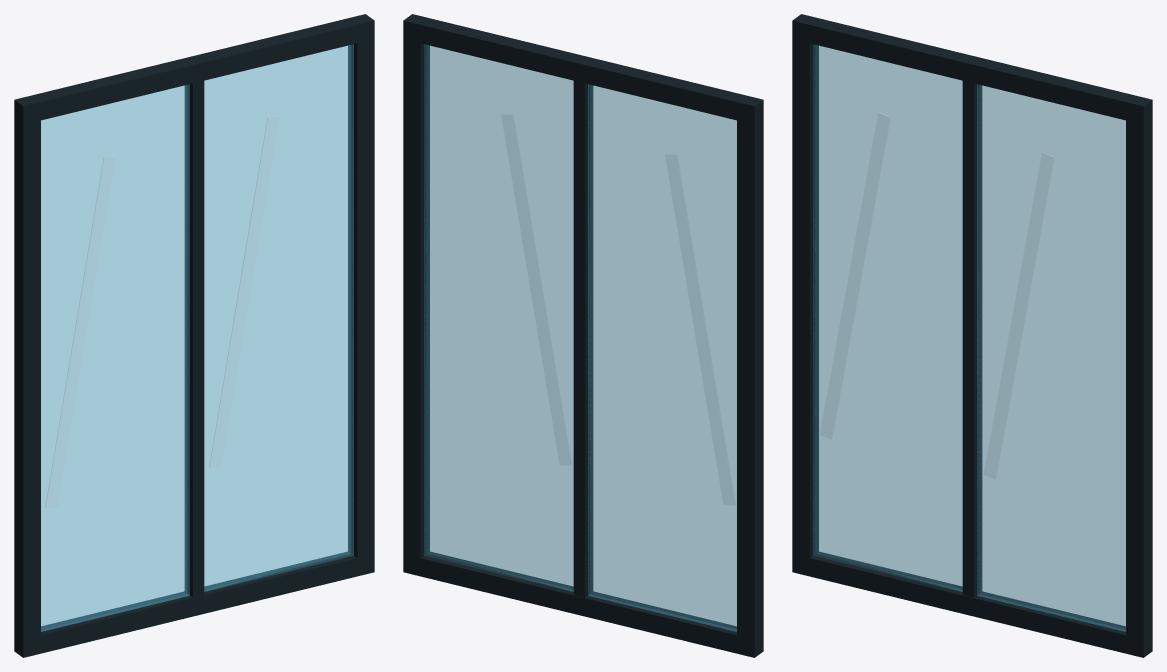
File: window_2pan_2level.glb
The picture shows the model from 3 angles, left to right: view 1: azimuth 30°, elevation 25°; view 2: azimuth 150°, elevation 25°; view 3: azimuth 330°, elevation 25°; orthographic projection.
Parts seen in each view (by area): view 1: Glass_Pane_2, Glass_Pane_1, Frame_Left, Frame_Right, Mullion_1, Frame_Top, Frame_Bottom, Reflection_Stripe_2, Reflection_Stripe_1; view 2: Glass_Pane_2, Glass_Pane_1, Frame_Left, Frame_Right, Mullion_1, Frame_Top, Frame_Bottom, Reflection_Stripe_1, Reflection_Stripe_2; view 3: Glass_Pane_1, Glass_Pane_2, Frame_Right, Frame_Left, Mullion_1, Frame_Top, Frame_Bottom, Reflection_Stripe_1, Reflection_Stripe_2.
Boxes of the visible parts, left/top/right/bottom form: Glass_Pane_2: left=204, top=44, right=353, bottom=591; Glass_Pane_1: left=41, top=84, right=189, bottom=631; Frame_Left: left=14, top=118, right=40, bottom=639; Frame_Right: left=348, top=39, right=374, bottom=557; Mullion_1: left=184, top=81, right=204, bottom=597; Frame_Top: left=14, top=14, right=374, bottom=124; Frame_Bottom: left=14, top=551, right=374, bottom=657; Reflection_Stripe_2: left=209, top=117, right=279, bottom=467; Reflection_Stripe_1: left=45, top=157, right=115, bottom=507; Glass_Pane_2: left=424, top=44, right=573, bottom=591; Glass_Pane_1: left=588, top=84, right=736, bottom=631; Frame_Left: left=737, top=118, right=763, bottom=639; Frame_Right: left=403, top=39, right=429, bottom=557; Mullion_1: left=573, top=81, right=593, bottom=597; Frame_Top: left=403, top=14, right=763, bottom=124; Frame_Bottom: left=403, top=551, right=763, bottom=657; Reflection_Stripe_1: left=665, top=155, right=734, bottom=504; Reflection_Stripe_2: left=502, top=115, right=570, bottom=464; Glass_Pane_1: left=813, top=44, right=962, bottom=591; Glass_Pane_2: left=977, top=84, right=1125, bottom=631; Frame_Right: left=1126, top=118, right=1152, bottom=639; Frame_Left: left=792, top=39, right=818, bottom=557; Mullion_1: left=962, top=81, right=982, bottom=597; Frame_Top: left=792, top=14, right=1152, bottom=124; Frame_Bottom: left=792, top=551, right=1152, bottom=657; Reflection_Stripe_1: left=820, top=112, right=890, bottom=439; Reflection_Stripe_2: left=984, top=152, right=1054, bottom=479.
Bounding box in the file's own units: 2 × 3 × 0.09.
